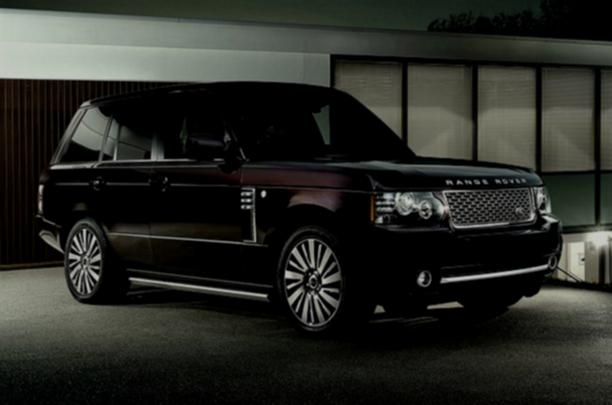range rover: (442, 175, 532, 191)
